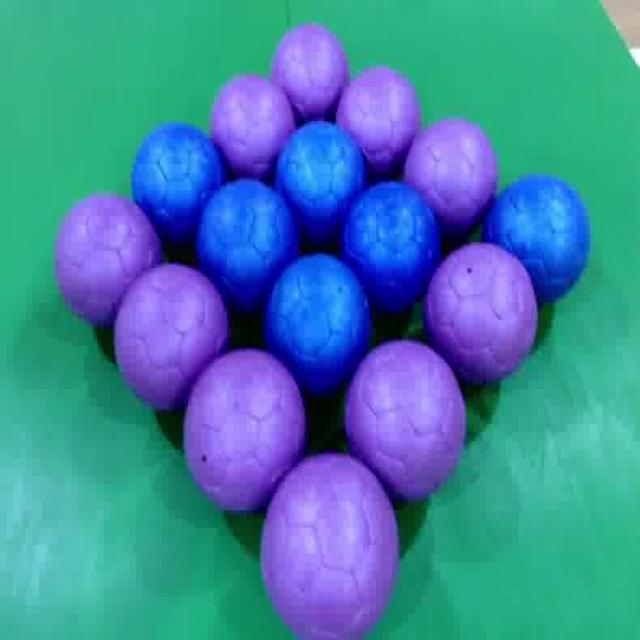blue_ball: (195, 180, 301, 324), (484, 173, 594, 311), (271, 247, 374, 389), (342, 183, 440, 310), (130, 117, 225, 245), (275, 113, 368, 241)
purple_ball: (261, 447, 401, 637), (186, 350, 306, 522), (339, 336, 468, 494), (426, 230, 539, 394), (52, 187, 174, 337), (116, 277, 230, 399), (408, 110, 501, 243), (210, 72, 298, 187), (338, 60, 417, 181), (274, 17, 350, 130)
